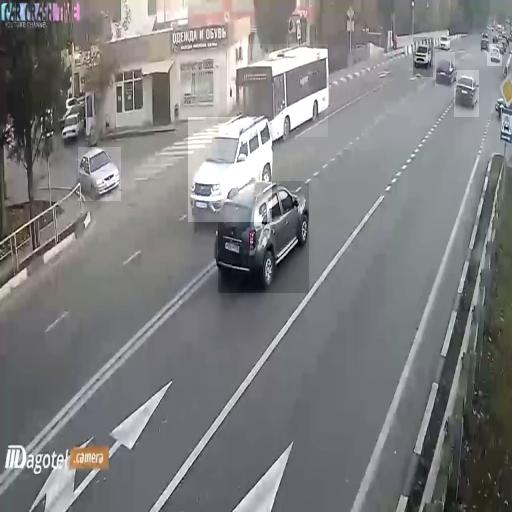小汽车: (218, 181, 309, 293), (188, 117, 272, 222), (239, 44, 328, 137), (78, 147, 121, 201), (454, 70, 479, 117), (414, 38, 434, 78), (436, 52, 456, 86), (487, 44, 502, 66)
